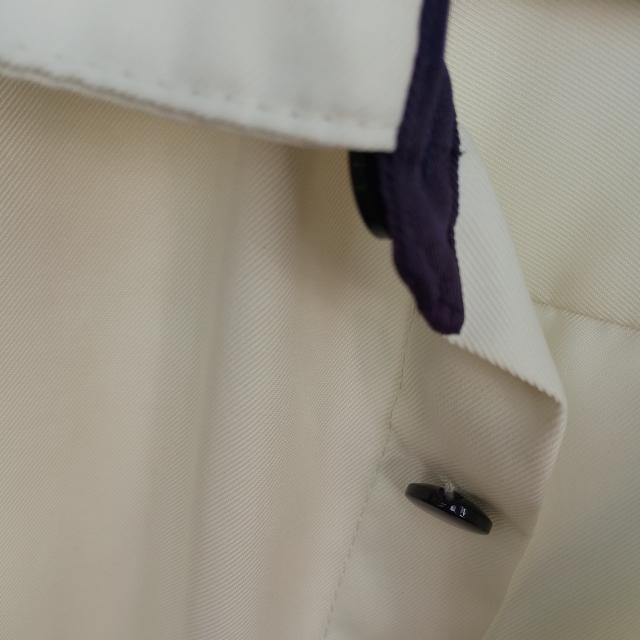education_male_uniform: (0, 0, 632, 584)
